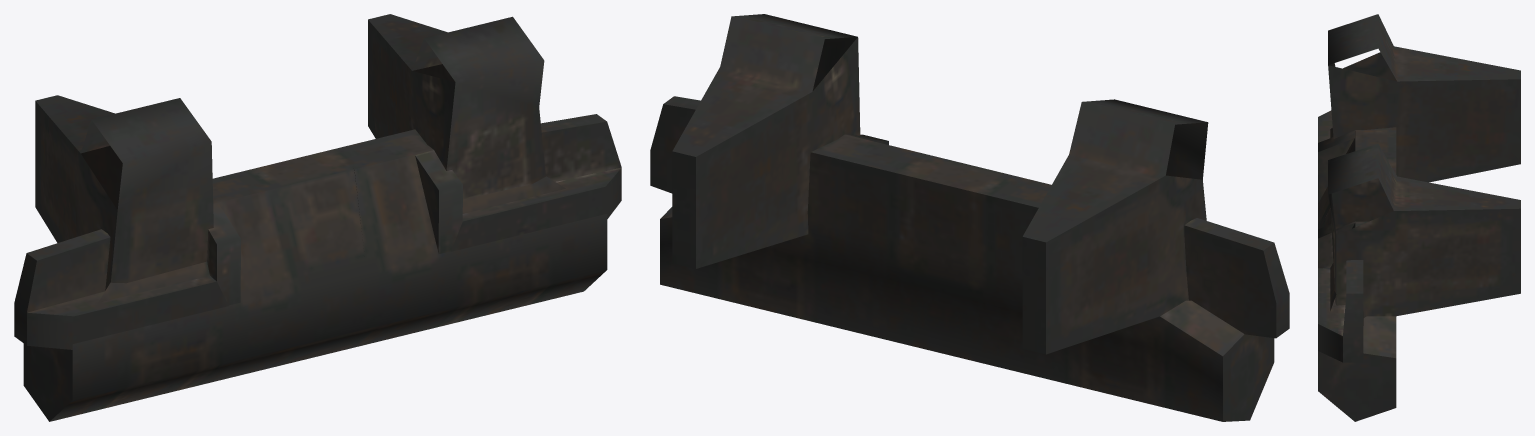
3 renders of one model, left to right at view 1: azimuth 30°, elevation 25°; view 2: azimuth 150°, elevation 25°; view 3: azimuth 270°, elevation 25°, orthographic. The views are drawn at different scales.
Parts seen in each view (by area): view 1: set_0_group_0; view 2: set_0_group_0; view 3: set_0_group_0.
Part boxes in pixels (x1=…): set_0_group_0: x1=14, y1=14, x2=621, y2=421; set_0_group_0: x1=650, y1=14, x2=1289, y2=421; set_0_group_0: x1=1318, y1=14, x2=1520, y2=421.
Size of the model in its own units: 0.2682 by 0.1198 by 0.0993.
Materials: 1 (1 with a texture image).
